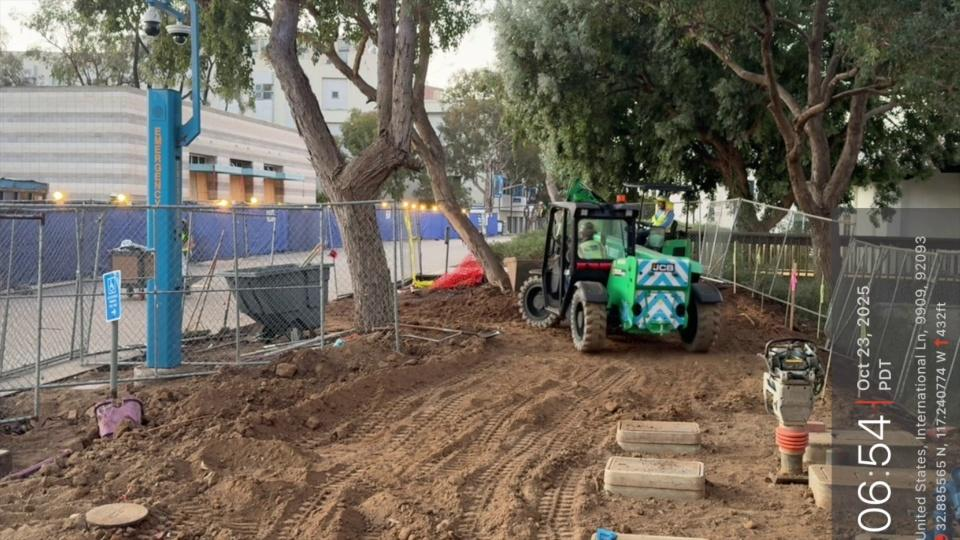Exacavator: (516, 177, 724, 353)
